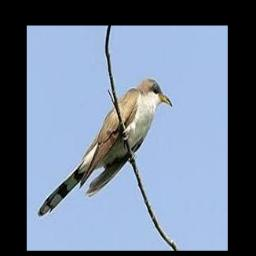Cuckoo: (38, 79, 171, 216)
